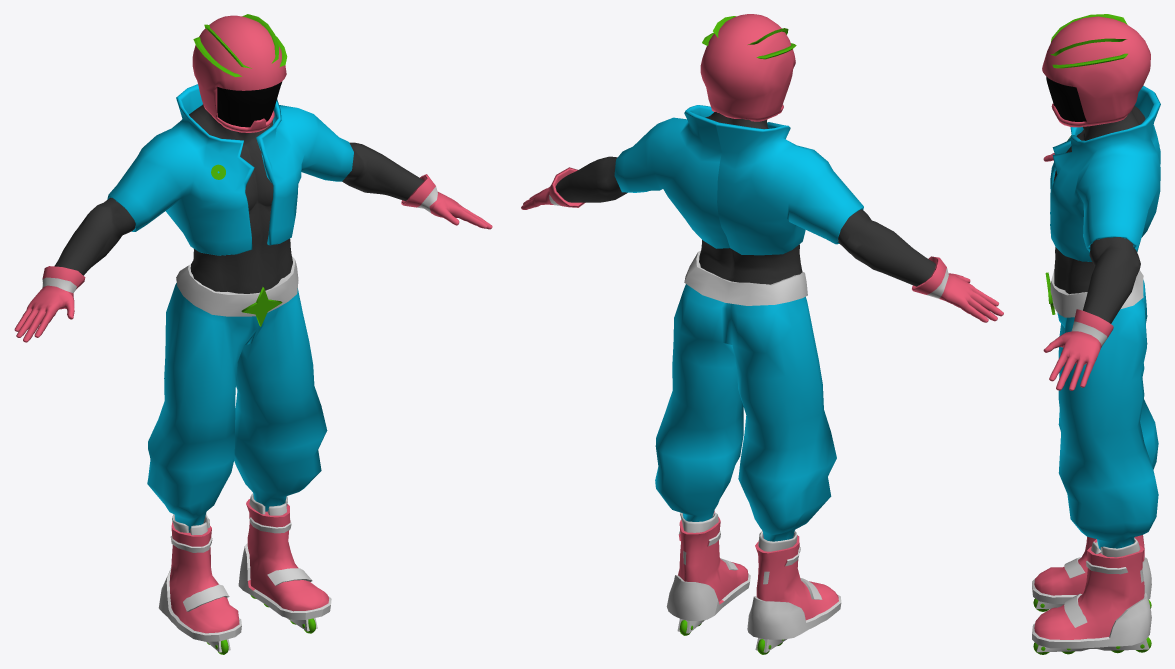
Rendered from ProtagFinishedColors.fbx.
3 renders of one model, left to right at view 1: azimuth 30°, elevation 25°; view 2: azimuth 150°, elevation 25°; view 3: azimuth 270°, elevation 25°, orthographic.
Visible parts, largest first — view 1: ColorTestPlayer; view 2: ColorTestPlayer; view 3: ColorTestPlayer.
Part boxes in pixels (left/top/right/bottom): ColorTestPlayer: left=14, top=14, right=492, bottom=654; ColorTestPlayer: left=521, top=14, right=1003, bottom=654; ColorTestPlayer: left=1032, top=14, right=1160, bottom=654.
Size of the model in its own units: 159 by 196 by 37.32.
